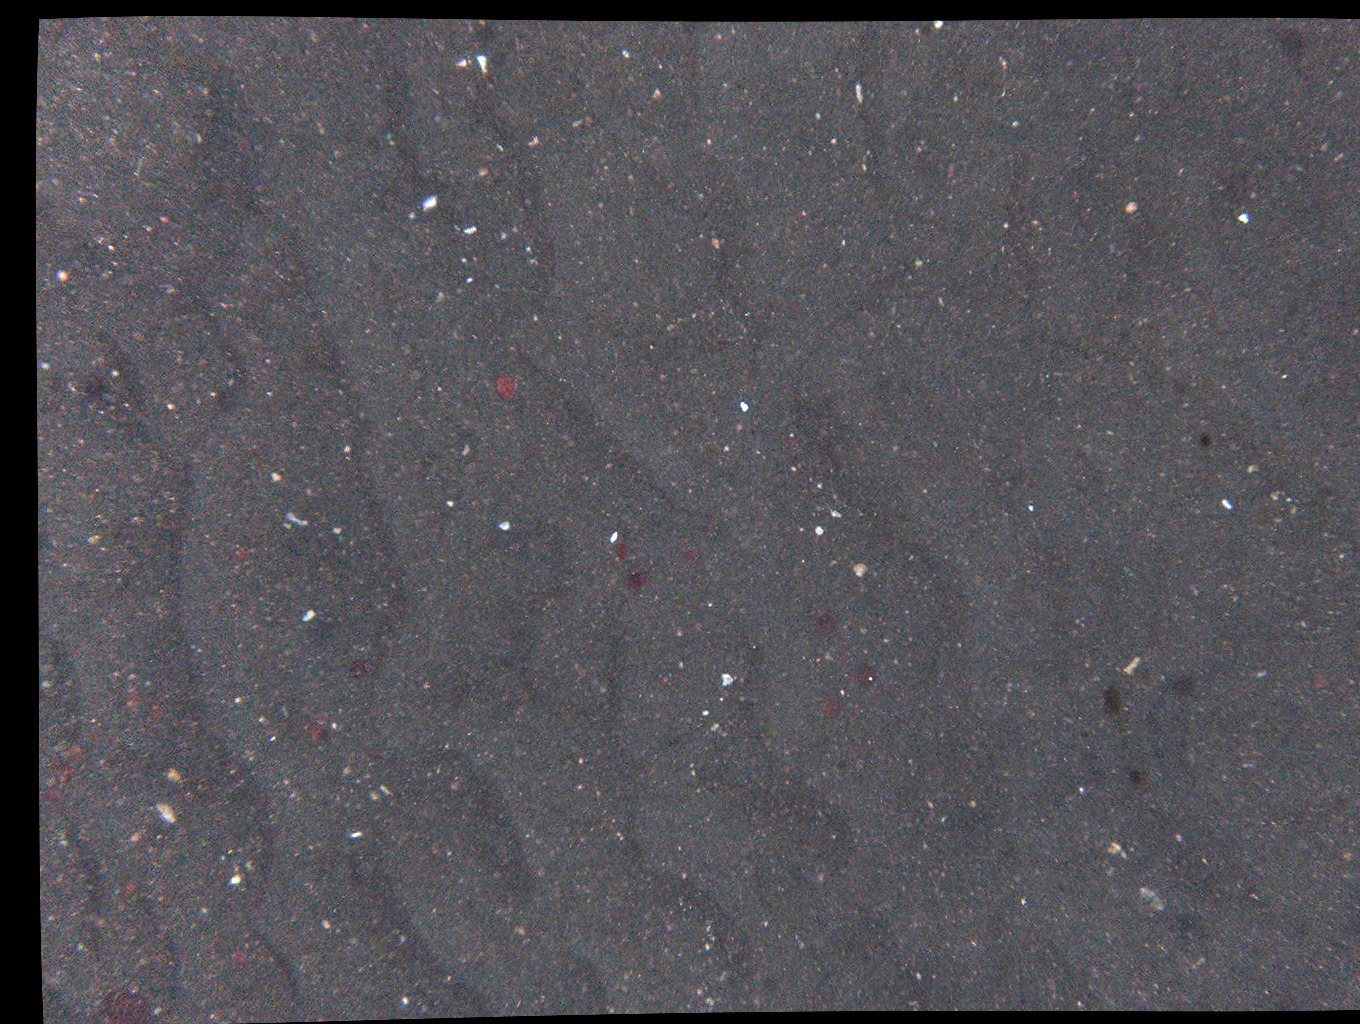Substrate A: (133, 58, 154, 77)
sand dollar: (103, 984, 152, 1024), (228, 534, 262, 571), (854, 663, 888, 700), (627, 566, 661, 603), (43, 750, 77, 787), (110, 687, 144, 724), (300, 714, 334, 751), (813, 686, 847, 723), (686, 532, 720, 569), (56, 733, 90, 769), (492, 368, 526, 406), (346, 649, 380, 686), (45, 778, 78, 815), (108, 865, 141, 902), (804, 599, 838, 636), (609, 530, 642, 567)
